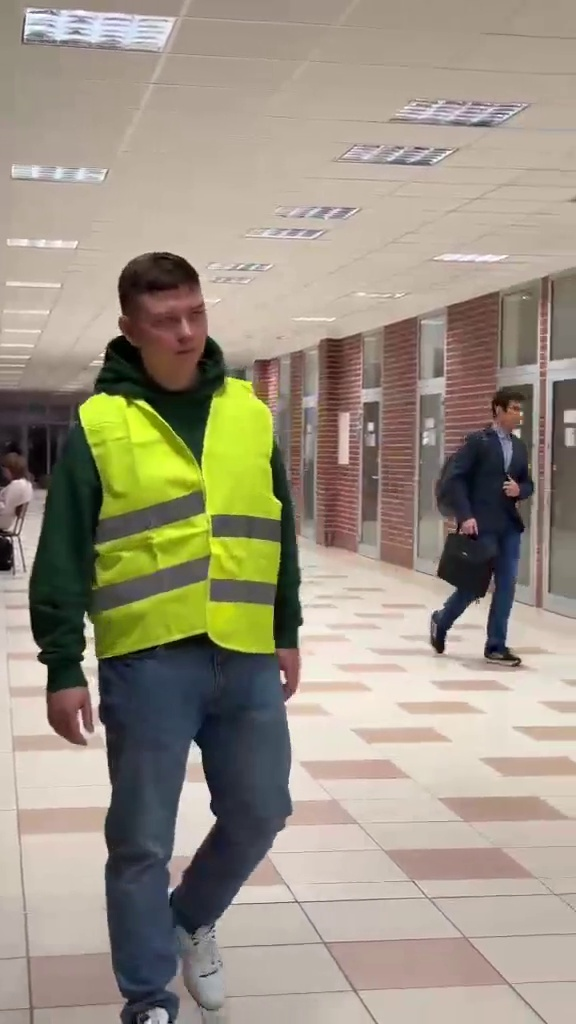no vest: (428, 373, 541, 676)
vest: (29, 245, 313, 1023)
